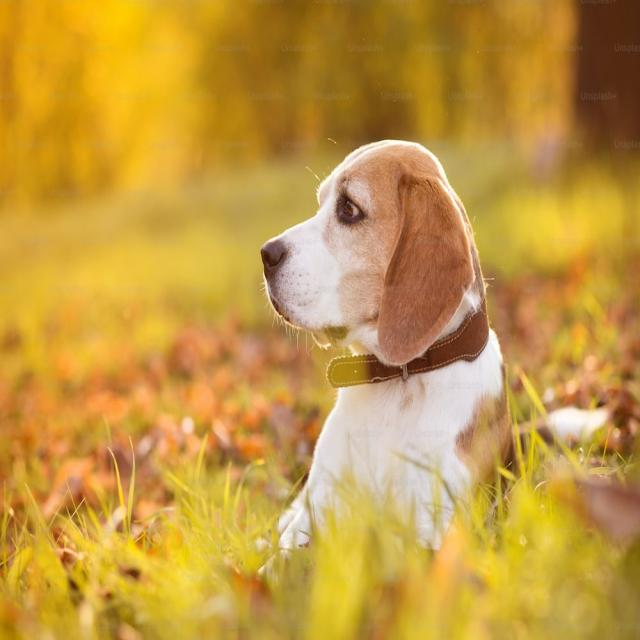beagle: (233, 90, 504, 396)
